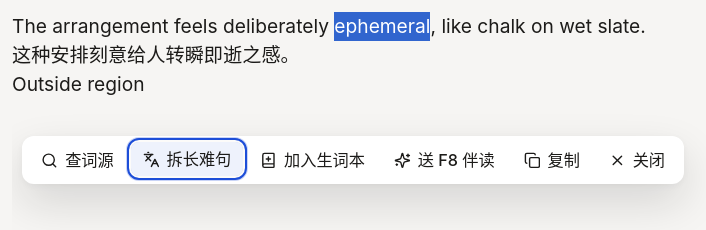
Test case: SelectionBubble › supports keyboard arrow navigation, Enter execution, Escape, and outside click dismiss
Earlier steps of the test are not shown.
Press ArrowRight
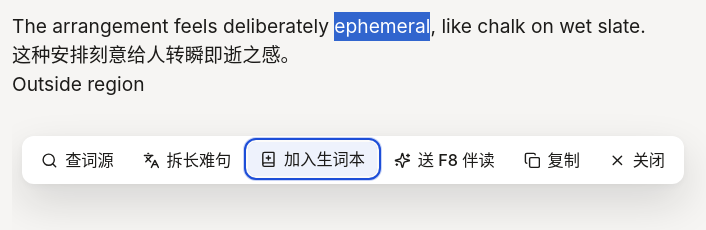
Expected: the button "加入生词本" has attribute data-active="true", [248, 142, 377, 176]
Press Enter
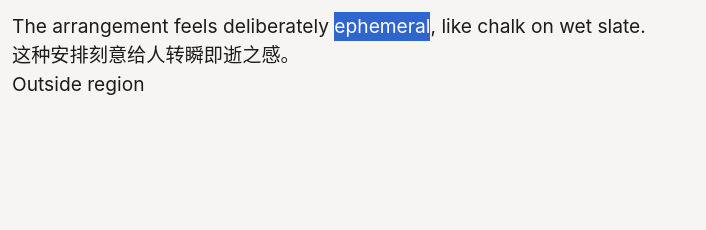
Expected: the element with test id "selection-bubble" is gone
Press the mouse on the element with test id "selection-container" at (329, 40), box [12, 14, 646, 67]
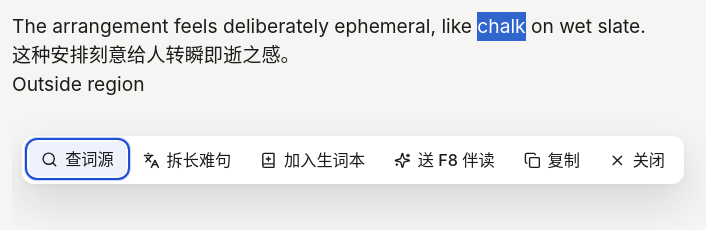
Expected: the element with test id "selection-bubble" is shown, [22, 136, 684, 184]
Press Escape
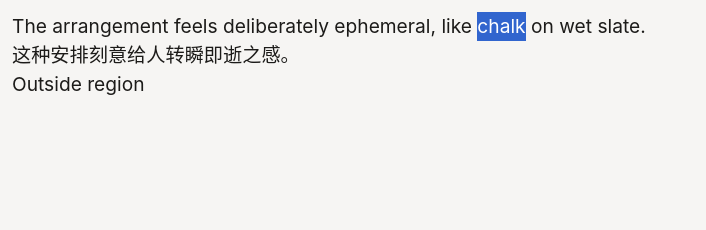
Expected: the element with test id "selection-bubble" is gone
Press the mouse on the element with test id "selection-container" at (329, 40), box [12, 14, 646, 67]
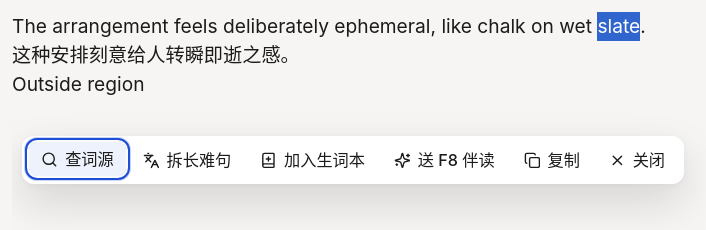
Expected: the element with test id "selection-bubble" is shown, [22, 136, 684, 184]
Press the mouse on the text with test id "outside-area" at (78, 84), box [12, 72, 145, 96]
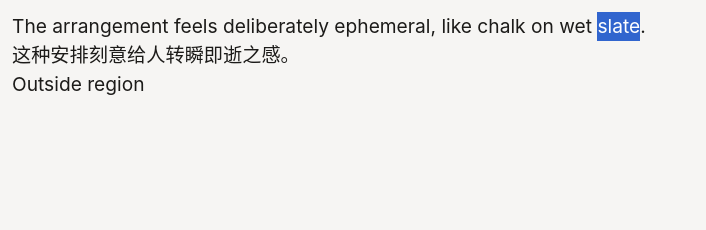
Expected: the element with test id "selection-bubble" is gone
